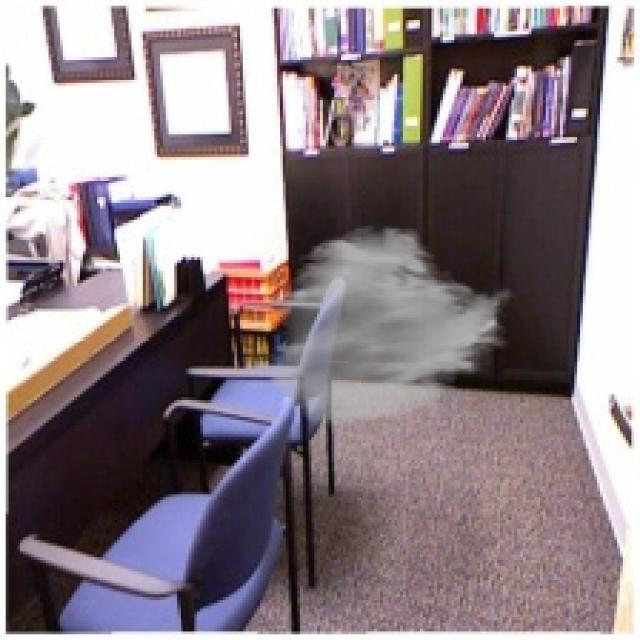smoke: (263, 223, 517, 428)
